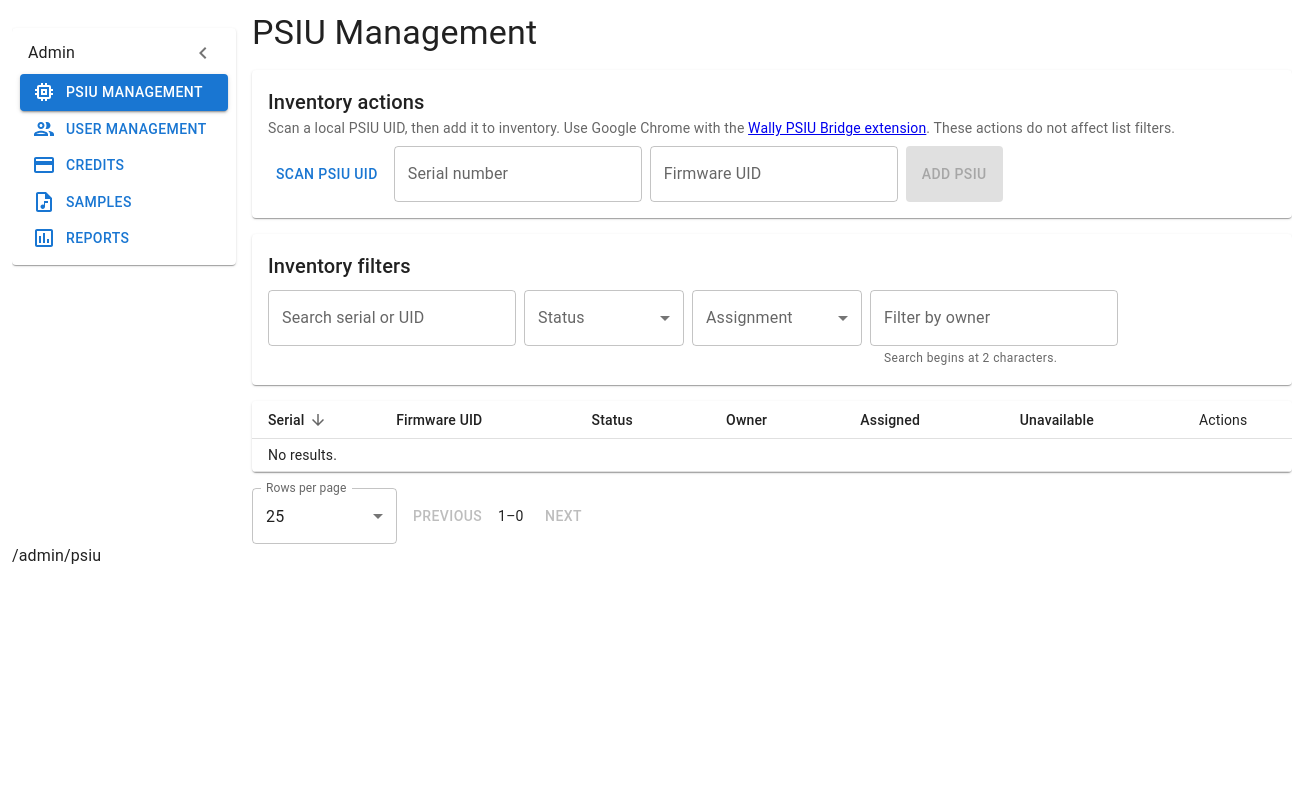
administrator directory tables › keeps filters, sorting, page size, and offset in the PSIU URL and request
The image size is (1292, 812).
Type "PS" into the field labelled "Search serial or UID" at (392, 318), box x1=268 y1=290 x2=516 y2=346
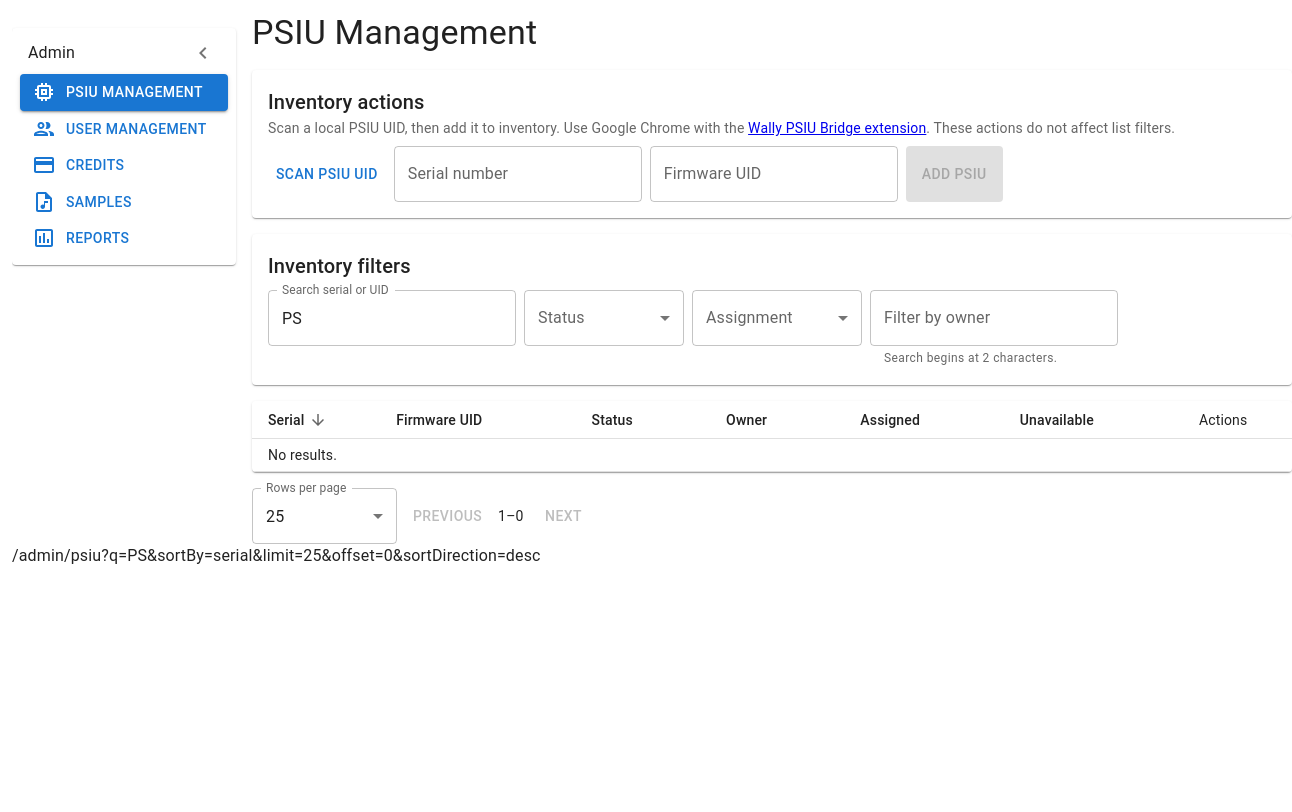
Expected: the text with test id "location" shows "q=PS", x1=12 y1=546 x2=541 y2=565
Click the button with aria-label "Sort by Firmware UID" at (439, 420), box x1=396 y1=412 x2=482 y2=428
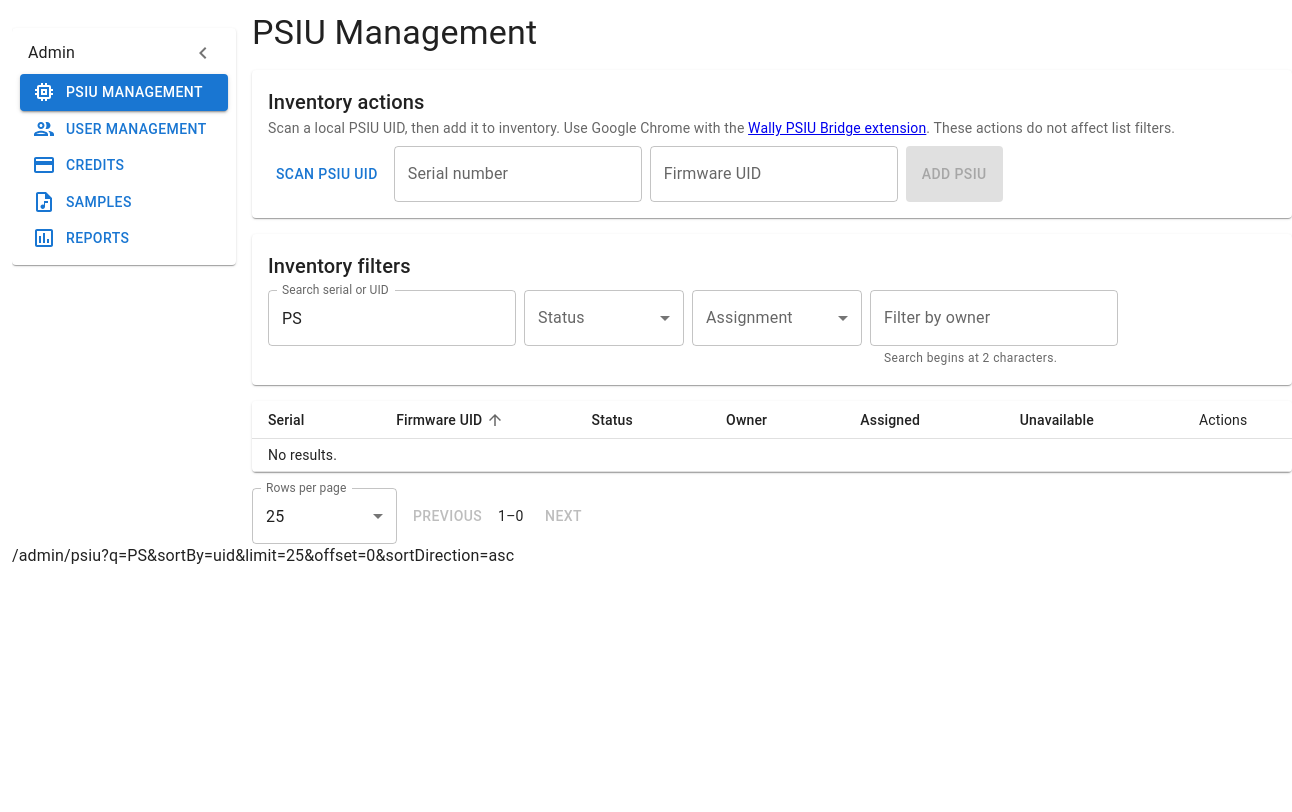
Expected: the text with test id "location" shows "sortBy=uid", x1=12 y1=546 x2=514 y2=565
